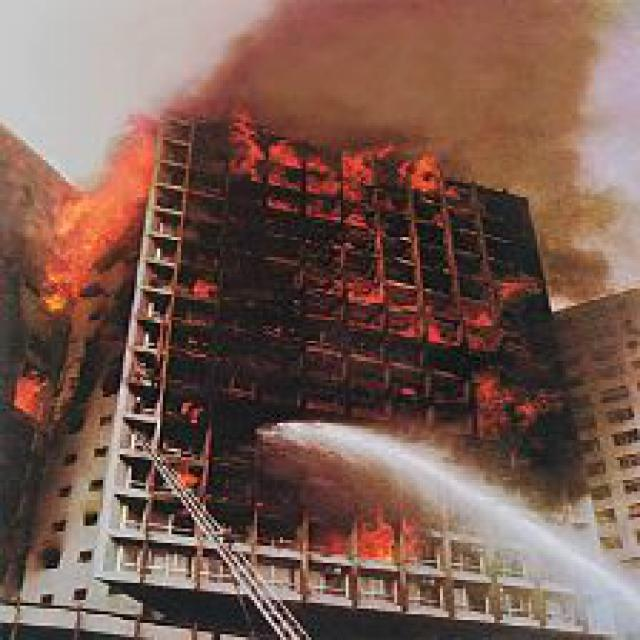fire: (29, 117, 157, 306), (234, 120, 446, 226)
